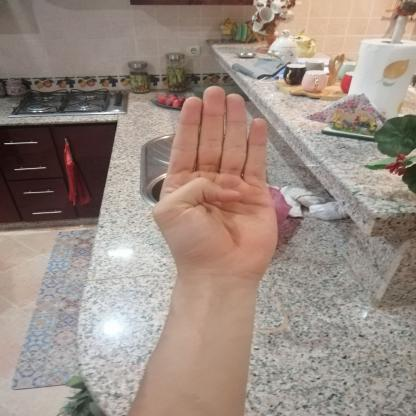KAAF: (136, 71, 298, 289)
